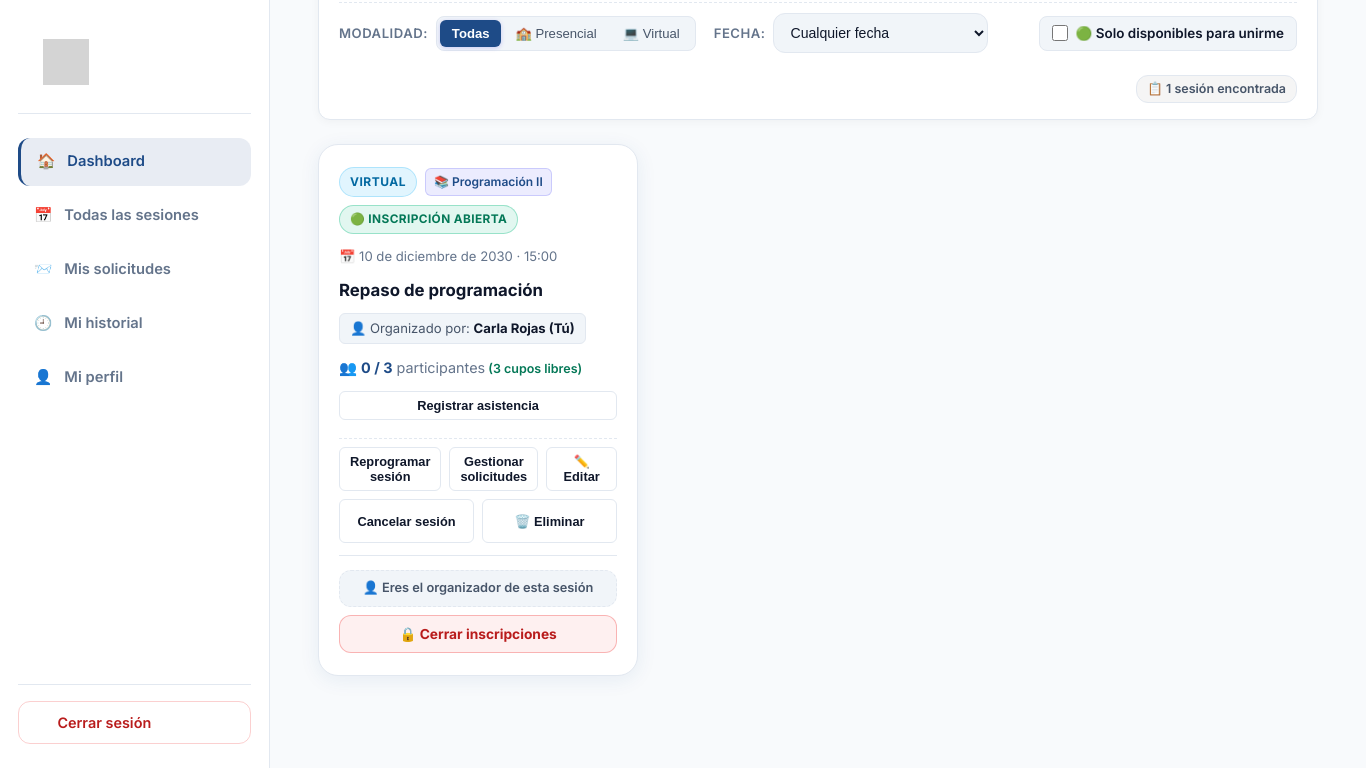
it: el organizador puede reintentar una decisión y la ficha se actualiza
(page scrolled)
Click the button "Gestionar solicitudes".
click(494, 469)  # box [449,447,538,491]
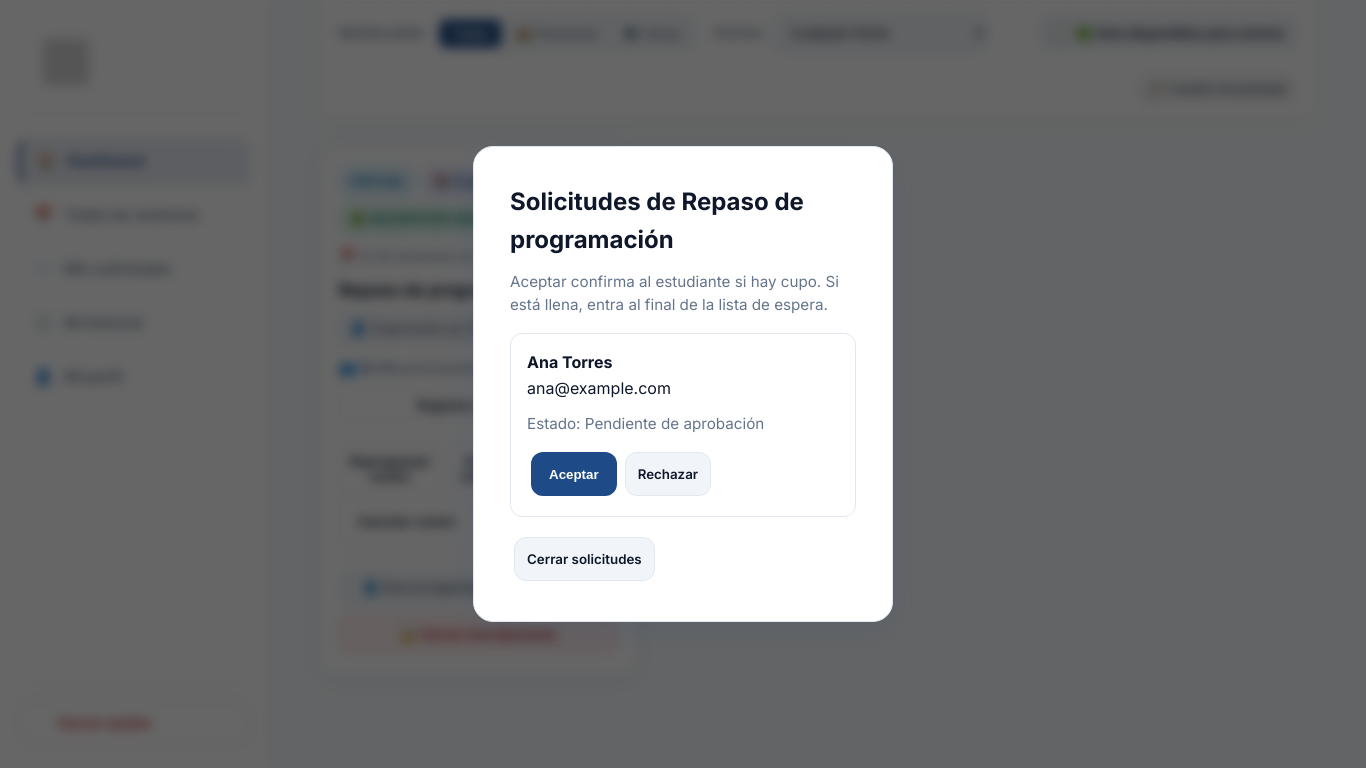
Expected: the list item with aria-label "Solicitud de ana@example.com" is shown, [510,333,856,517]
Click the button "Aceptar".
click(574, 474)  # box [531,452,617,496]
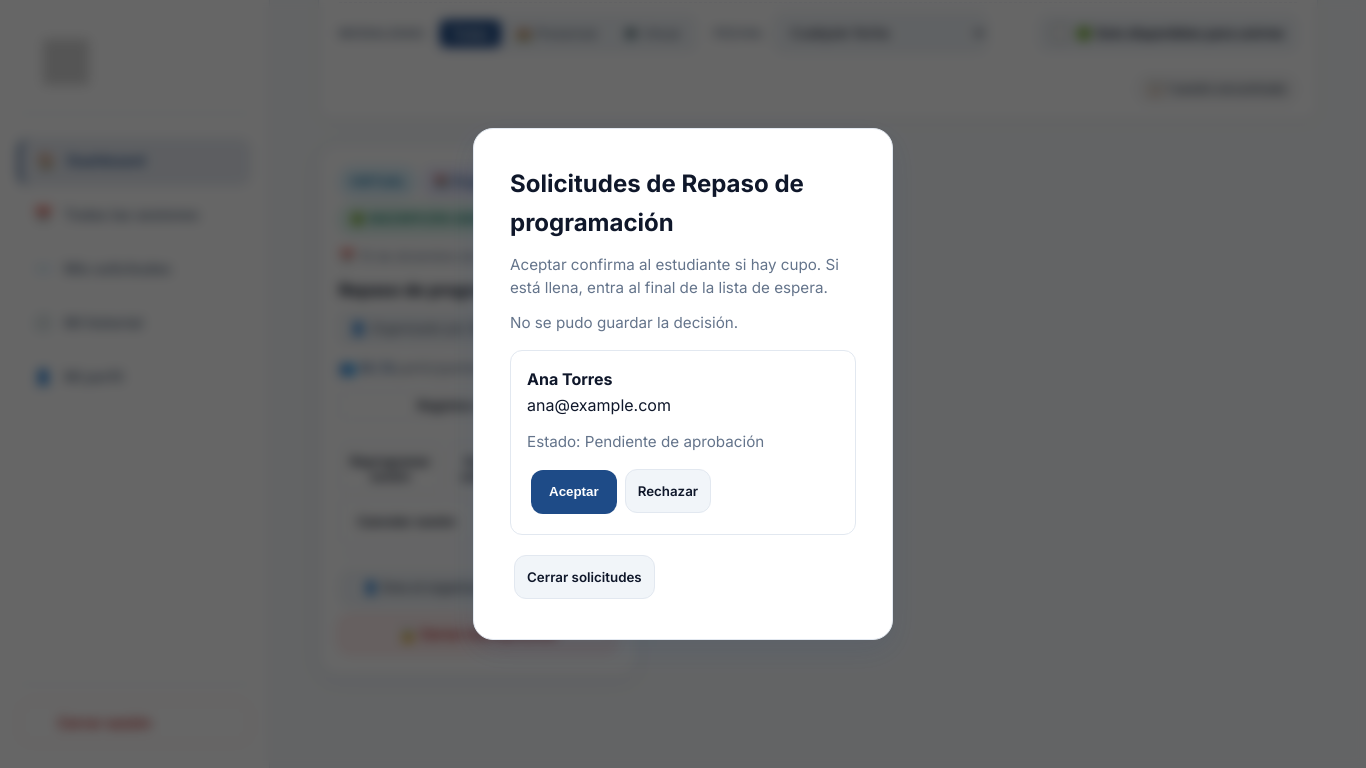
Expected: the message "No se pudo guardar la decisión." is shown, [510,312,738,332]
Click the button "Aceptar".
click(574, 492)  # box [531,470,617,514]
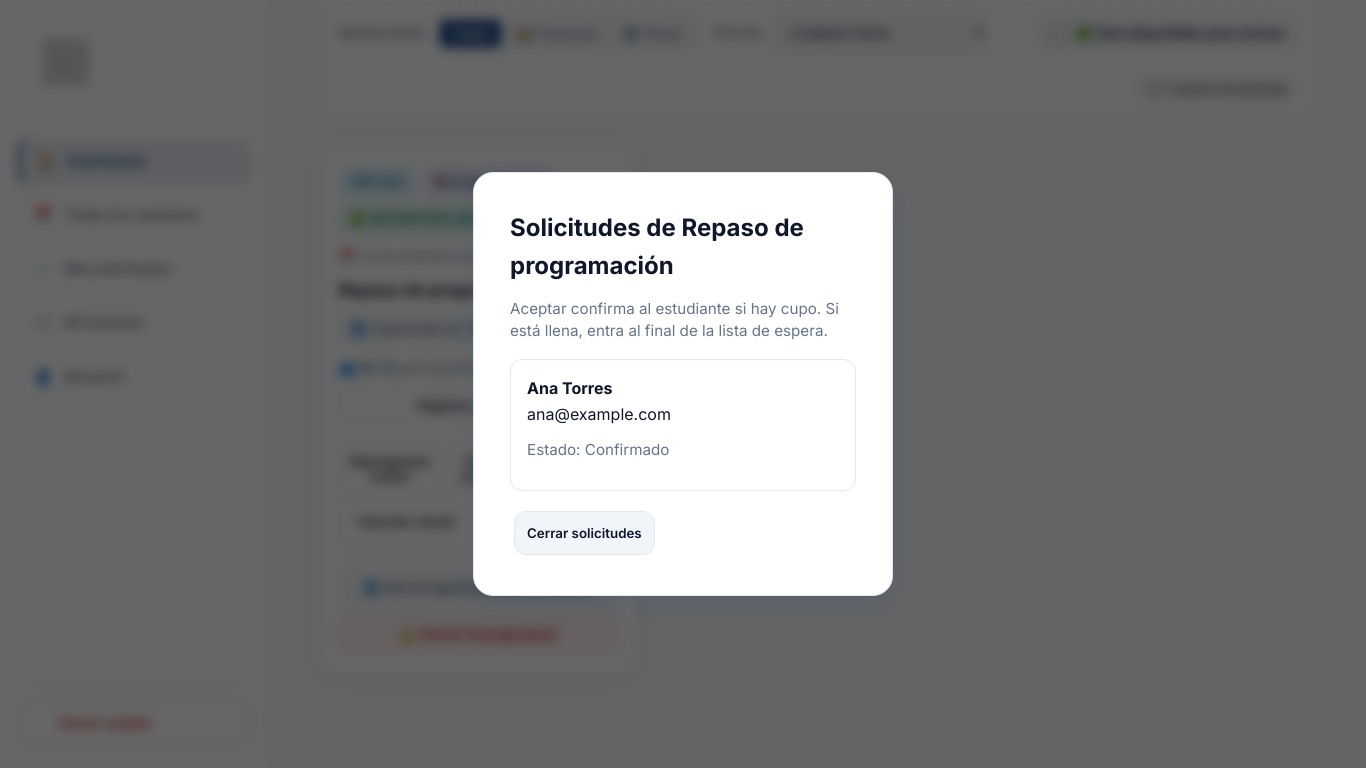
Expected: the text "Estado: Confirmado" is shown, [527,440,670,459]
Click the button "Cerrar solicitudes".
click(584, 533)  # box [514,511,655,555]
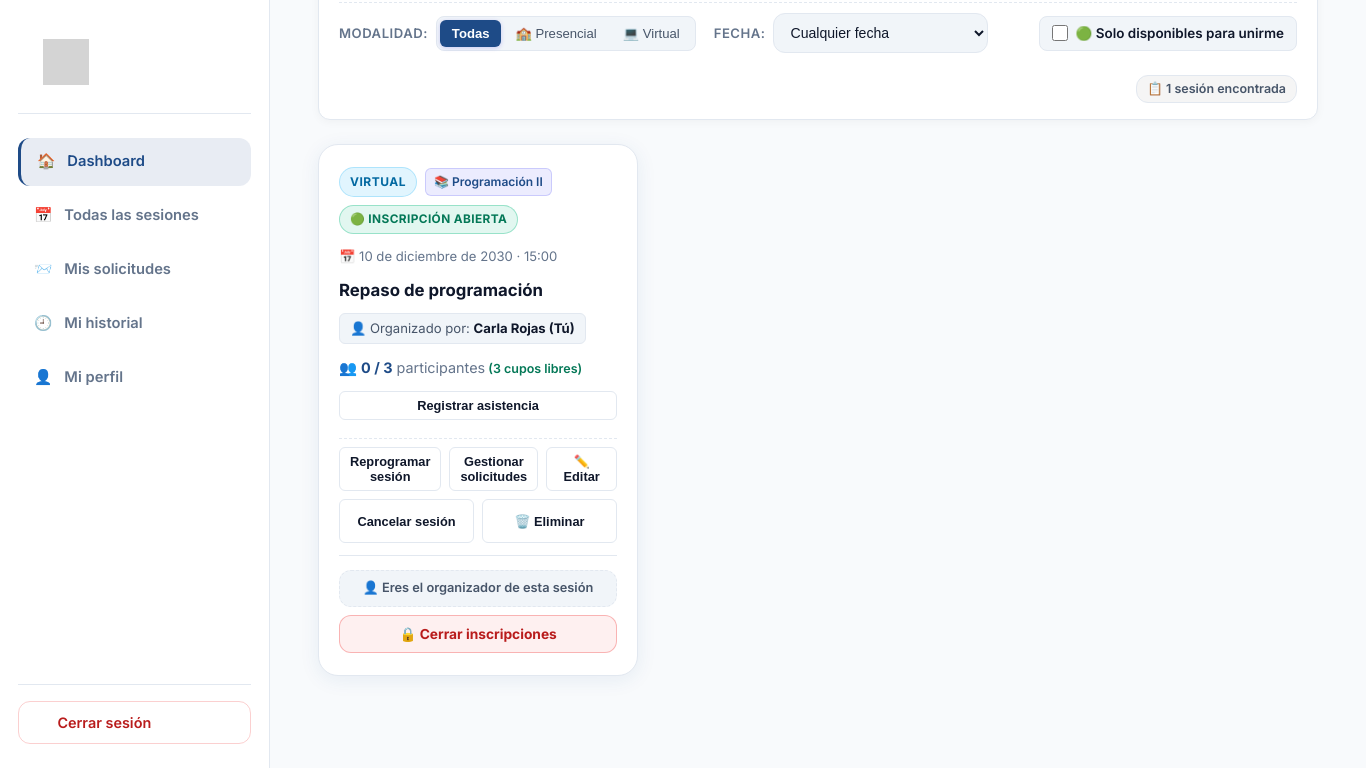
Expected: the dialog is gone
